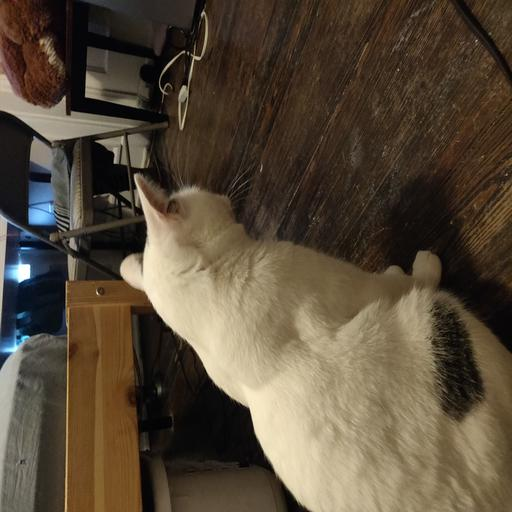cat: (130, 167, 449, 486)
